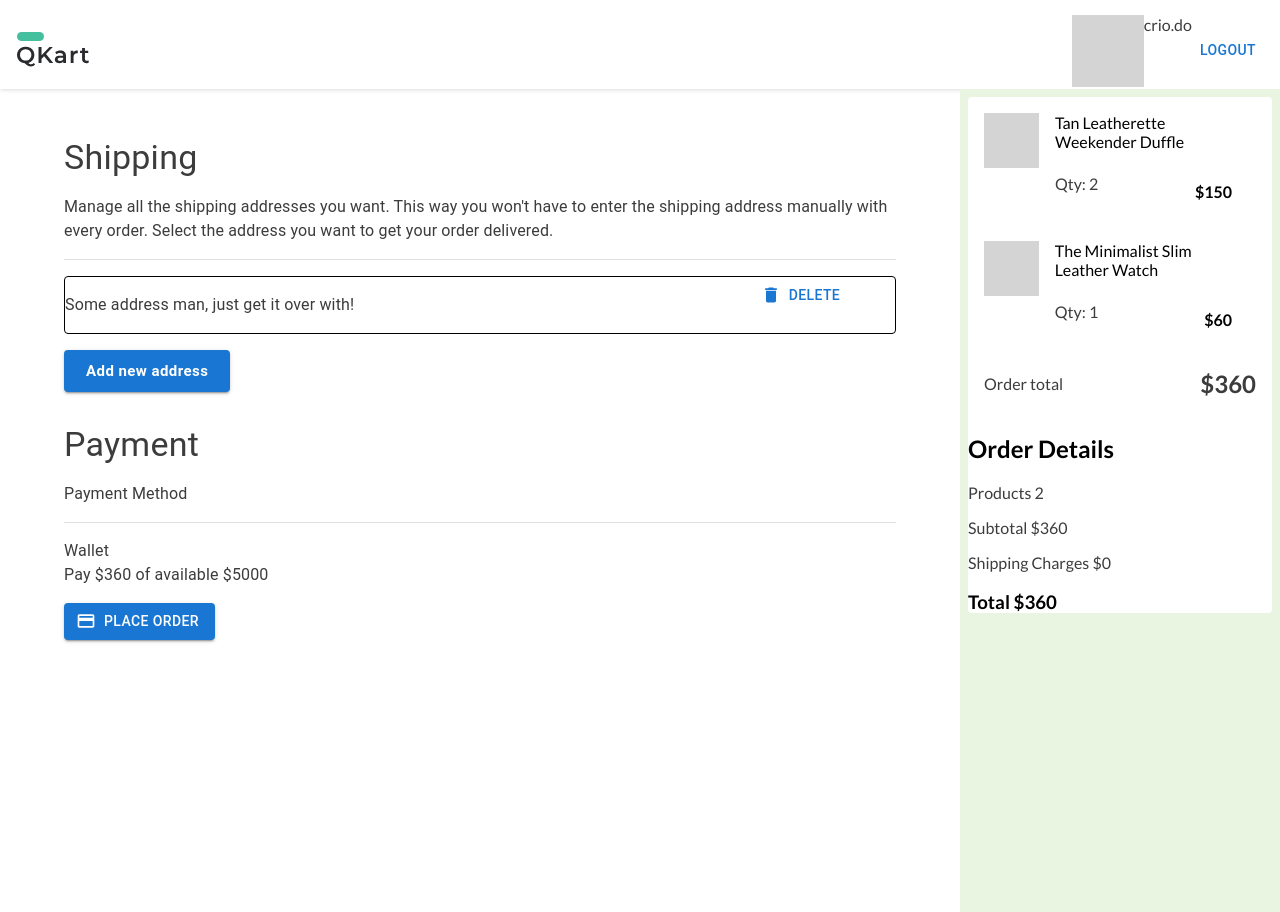
Checkout Page › allows to add new address
The image size is (1280, 912).
Expected: the field with placeholder "enter your complete address" is not shown
Click the button "Add new address".
click(147, 371)  # box 64,350 -> 230,392
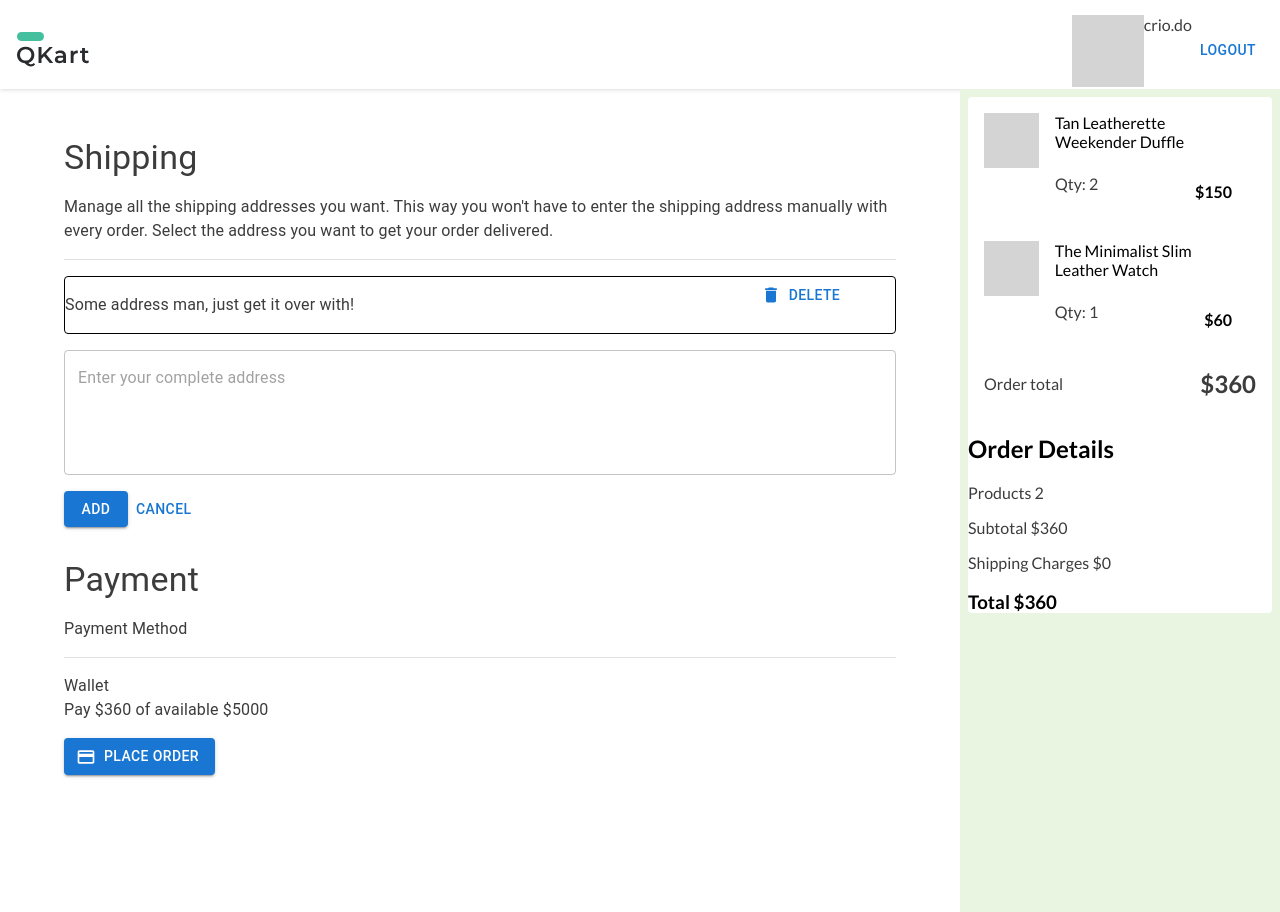
Now the text box with placeholder "Enter your complete address" is shown
Type "new address for me is here" into the text box with placeholder "Enter your complete address".
click(480, 412); type("new address for me is here")  # box 78,366 -> 882,458
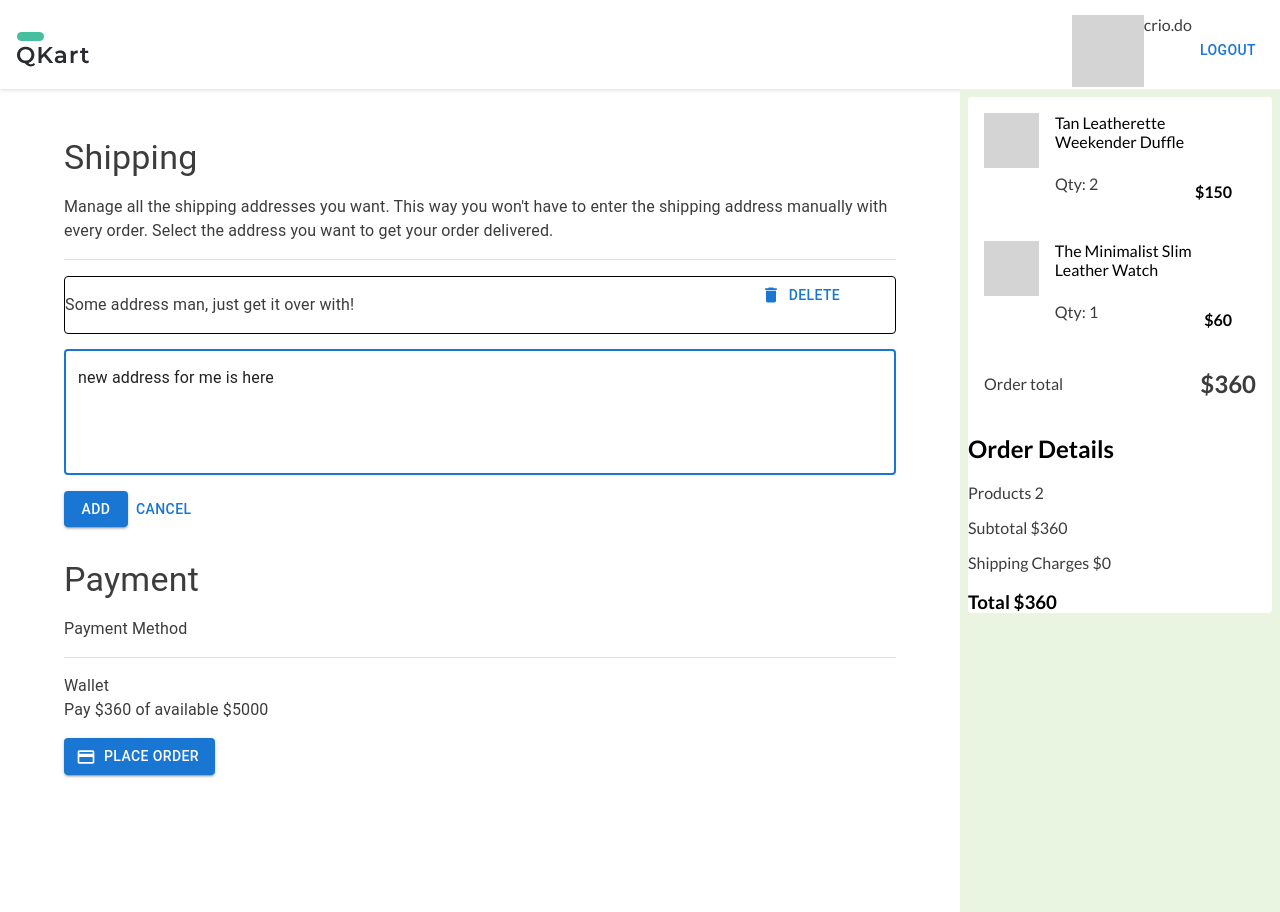
Click the button "Add".
click(96, 509)  # box 64,491 -> 128,528
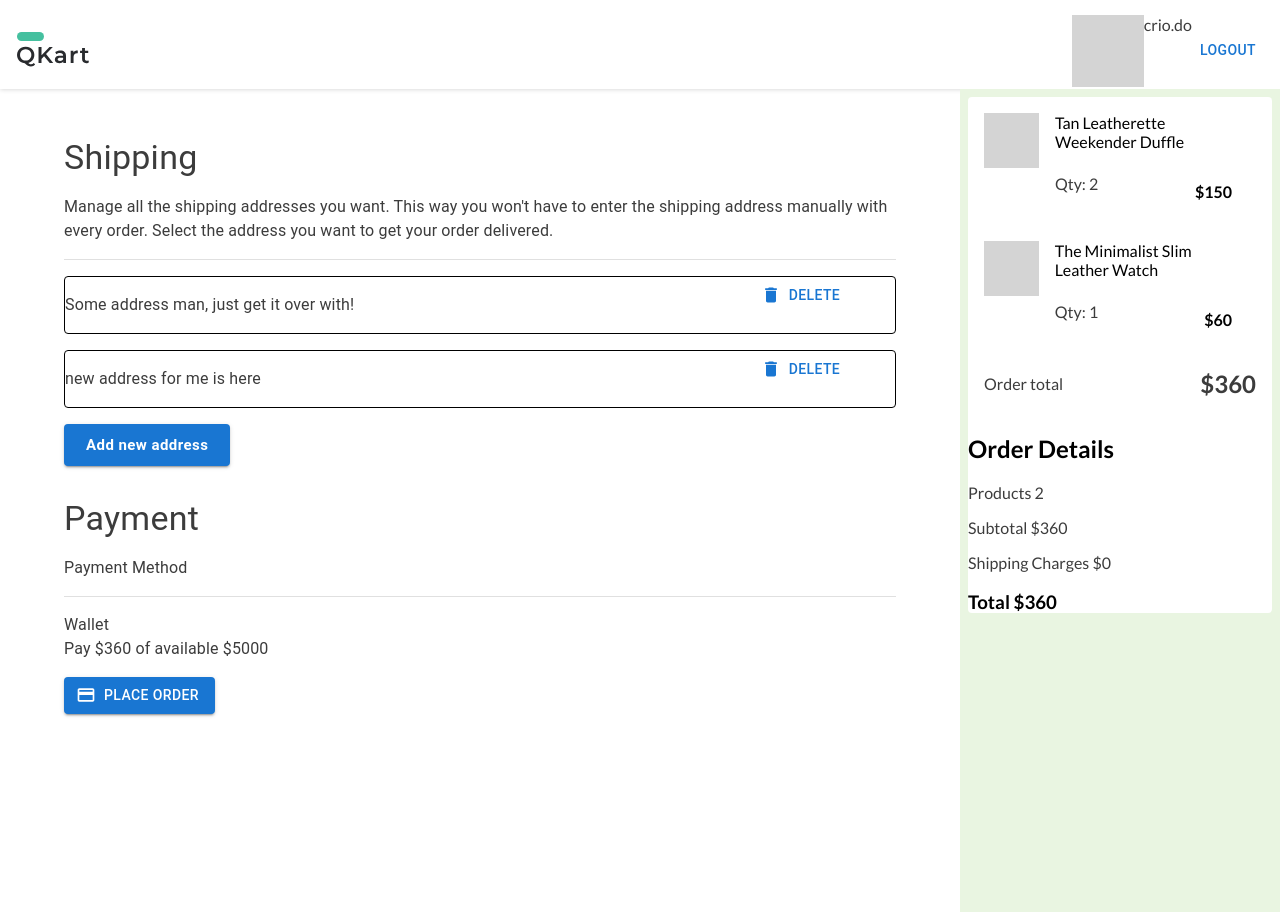
Now the text "new address for me is here" is shown, box 65,369 -> 261,388
